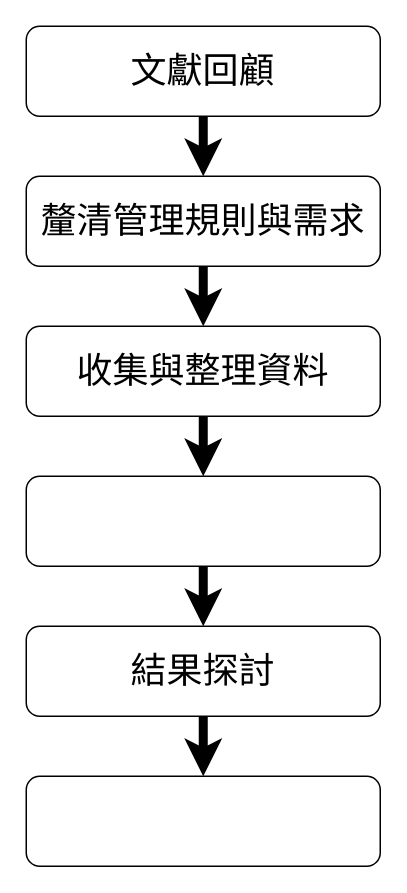
Some shapes in this 407 by 893 pixel diagram are drawn without their labels. The box of each missing label's shape, as (x1, y1, x2, y2) in pixels:
數據探勘分析: (25, 475, 380, 566)
結論建議: (25, 775, 380, 866)
